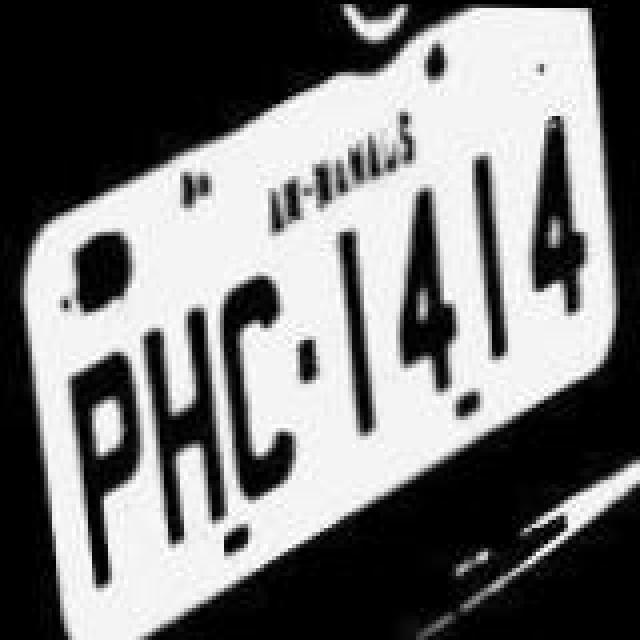1: (328, 218, 380, 462), (462, 144, 514, 376)
4: (512, 100, 592, 344), (382, 182, 462, 398)
C: (218, 268, 302, 504)
H: (142, 294, 226, 538)
P: (58, 336, 142, 604)
